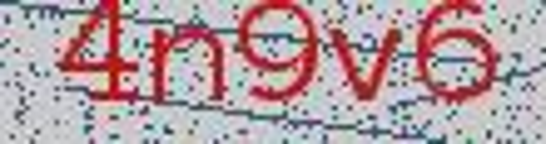4: (58, 1, 142, 116)
6: (415, 2, 501, 109)
9: (237, 2, 322, 103)
n: (150, 21, 235, 112)
v: (325, 20, 407, 113)
